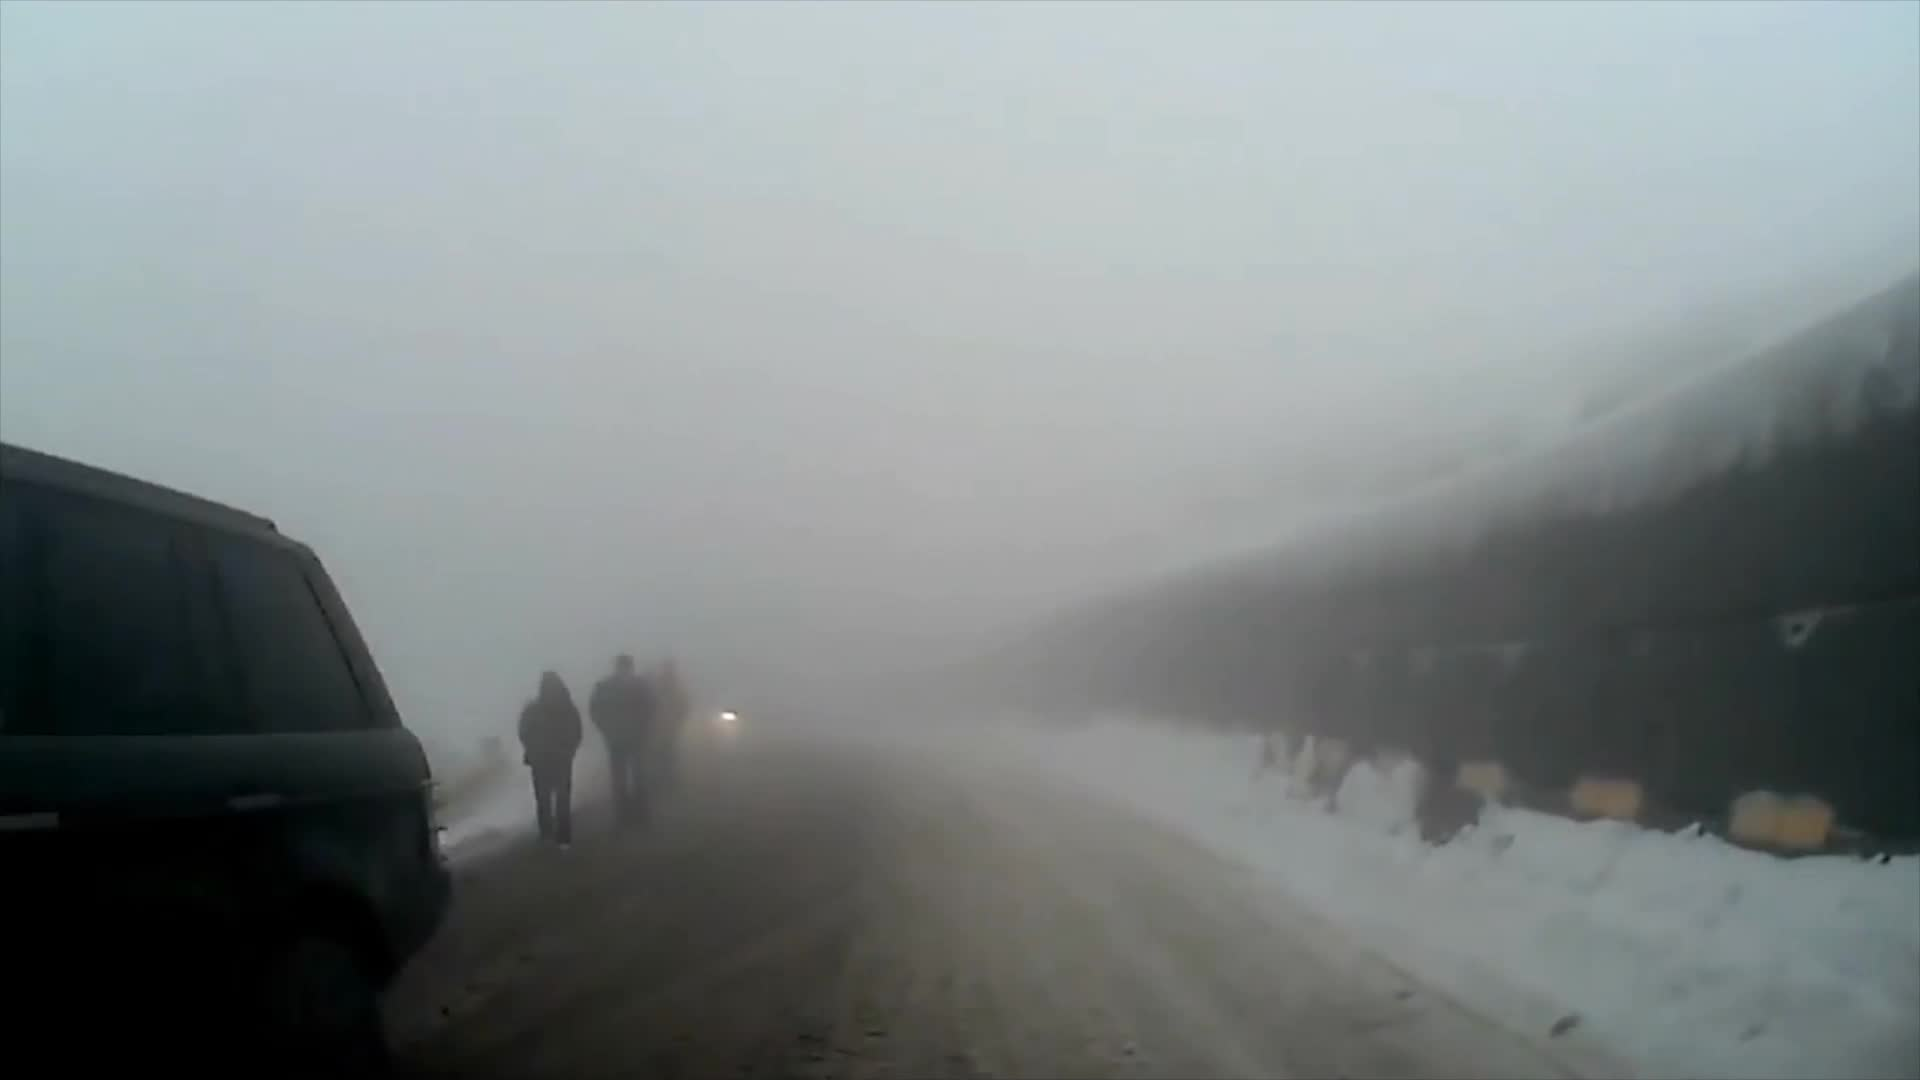pedestrian: (514, 671, 588, 848), (588, 652, 658, 828), (643, 655, 697, 820)
vehicle: (0, 408, 452, 1080)
